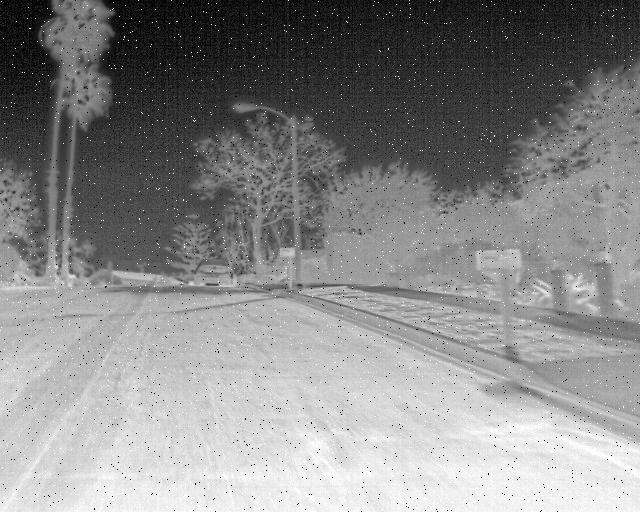car: (190, 251, 247, 294)
light: (234, 92, 300, 142)
mail box: (471, 241, 532, 306), (273, 237, 303, 287)
